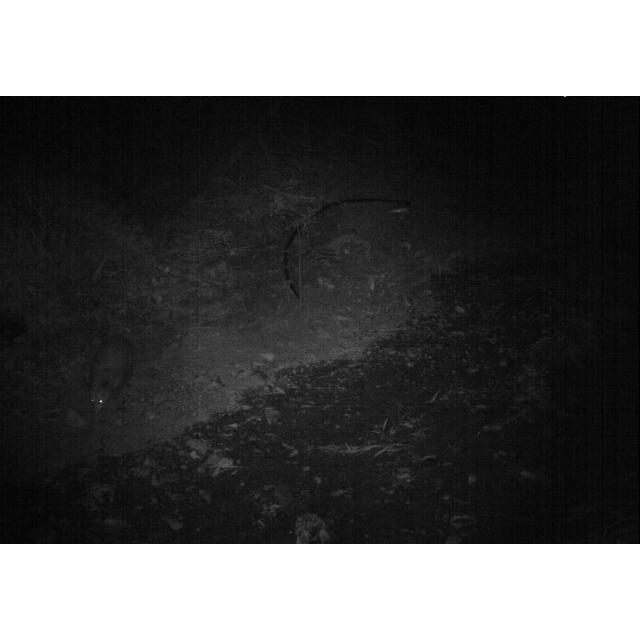animals: (82, 334, 142, 418)
